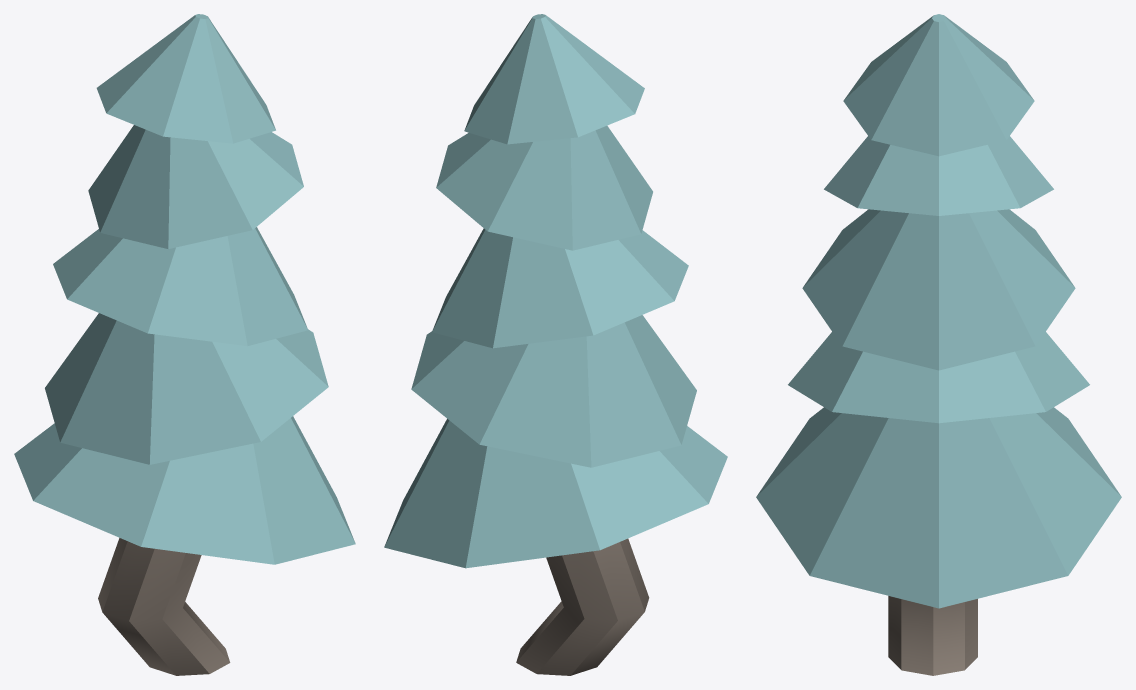
File: AssetPinoLAzul.fbx
The picture shows the model from 3 angles, left to right: view 1: azimuth 30°, elevation 25°; view 2: azimuth 150°, elevation 25°; view 3: azimuth 270°, elevation 25°; orthographic projection.
Parts seen in each view (by area): view 1: pCylinder23, pCylinder24; view 2: pCylinder23, pCylinder24; view 3: pCylinder23, pCylinder24.
Boxes of the visible parts, x1,y1,x2,y2 form: pCylinder23: (14, 14, 355, 564); pCylinder24: (98, 538, 230, 675); pCylinder23: (384, 14, 727, 568); pCylinder24: (516, 538, 649, 675); pCylinder23: (756, 14, 1121, 608); pCylinder24: (888, 596, 977, 675).
Size of the model in its own units: 4.02 by 8.04 by 4.11.
